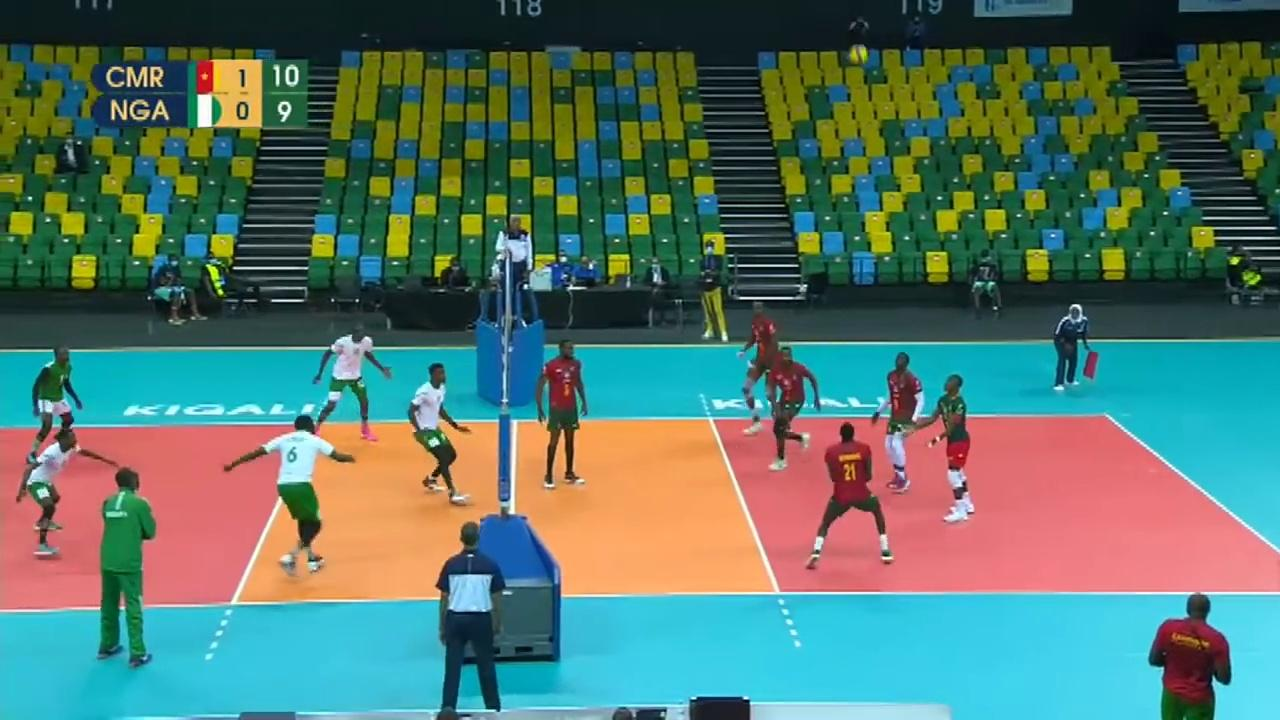player: (223, 416, 359, 569), (809, 424, 898, 564), (305, 329, 394, 442), (26, 429, 94, 569), (410, 366, 477, 503), (737, 306, 787, 461), (538, 345, 591, 486), (765, 344, 819, 469), (930, 373, 975, 520), (881, 354, 928, 488), (30, 344, 83, 457)
refree: (431, 524, 511, 713), (494, 214, 537, 312), (1056, 303, 1097, 392)
